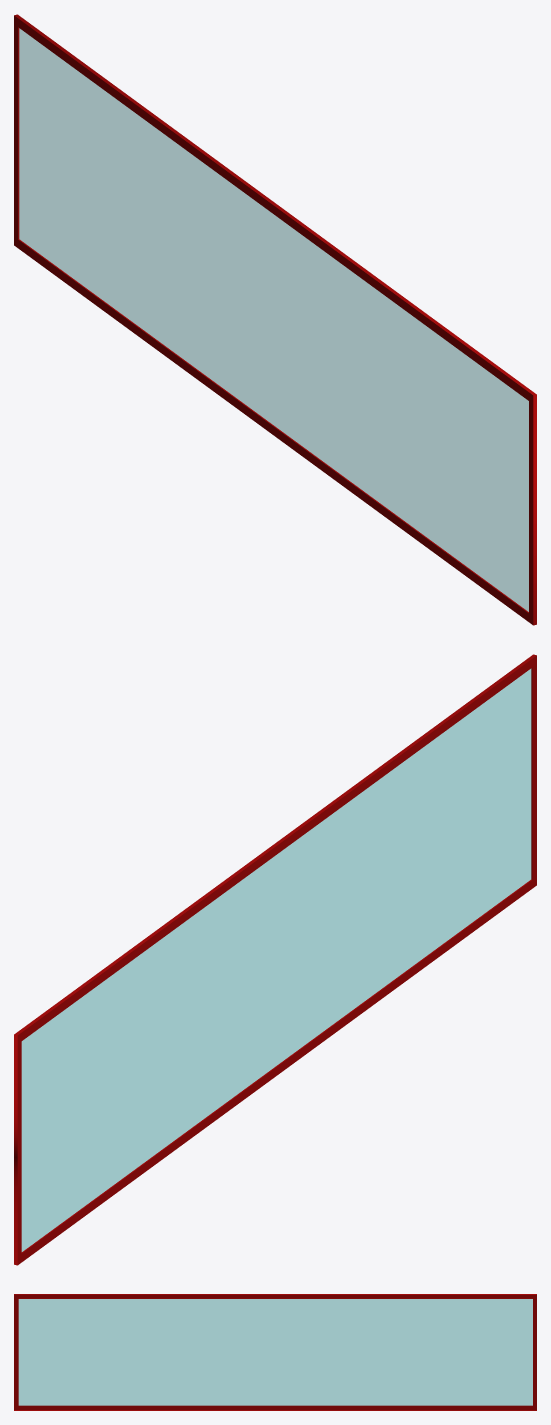
Rendered from Window_Long.fbx.
3 renders of one model, top to bottom at view 1: azimuth 30°, elevation 25°; view 2: azimuth 150°, elevation 25°; view 3: azimuth 270°, elevation 25°, orthographic. The views are drawn at different scales.
Parts seen in each view (by area): view 1: polySurface12; view 2: polySurface12; view 3: polySurface12.
Part boxes in pixels (x1,y1,x2,y2): polySurface12: (14, 14, 536, 625); polySurface12: (14, 654, 536, 1265); polySurface12: (14, 1294, 536, 1410).
Bounding box in the file's own units: 0.027 × 1.64 × 6.69.
